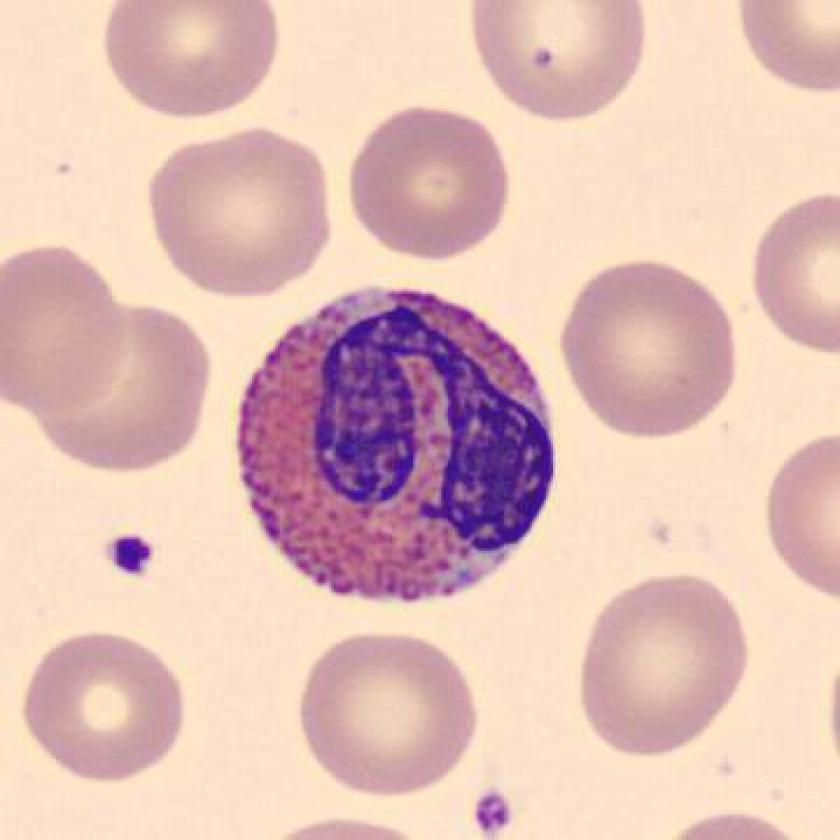eosinophil: (223, 267, 575, 612)
